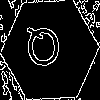Q: (25, 25, 62, 76)
